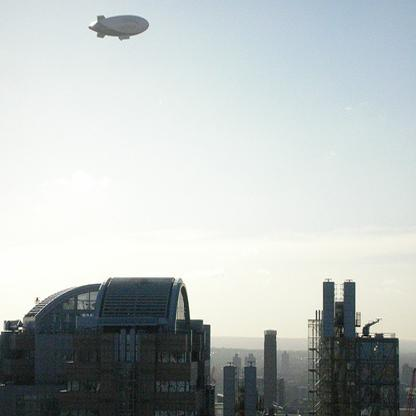Airship: (84, 9, 153, 51)
